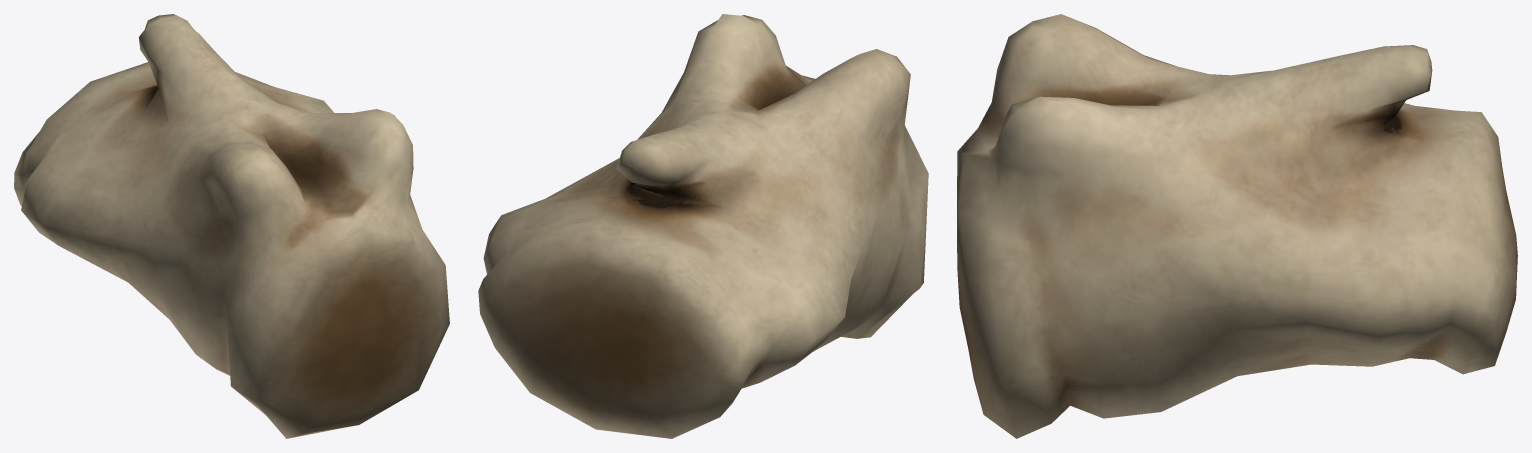
Rendered from Caudal_Vertebrae5.glb.
3 renders of one model, left to right at view 1: azimuth 30°, elevation 25°; view 2: azimuth 150°, elevation 25°; view 3: azimuth 270°, elevation 25°, orthographic. The views are drawn at different scales.
Parts seen in each view (by area): view 1: Caudal_Vertebrae_24:Group41560; view 2: Caudal_Vertebrae_24:Group41560; view 3: Caudal_Vertebrae_24:Group41560.
Boxes of the visible parts, <box> form: Caudal_Vertebrae_24:Group41560: <box>14,14,449,438</box>; Caudal_Vertebrae_24:Group41560: <box>478,14,928,438</box>; Caudal_Vertebrae_24:Group41560: <box>957,14,1517,438</box>.
Bounding box in the file's own units: 12.27 × 11.1 × 15.61.
1 material, 1 textured.
